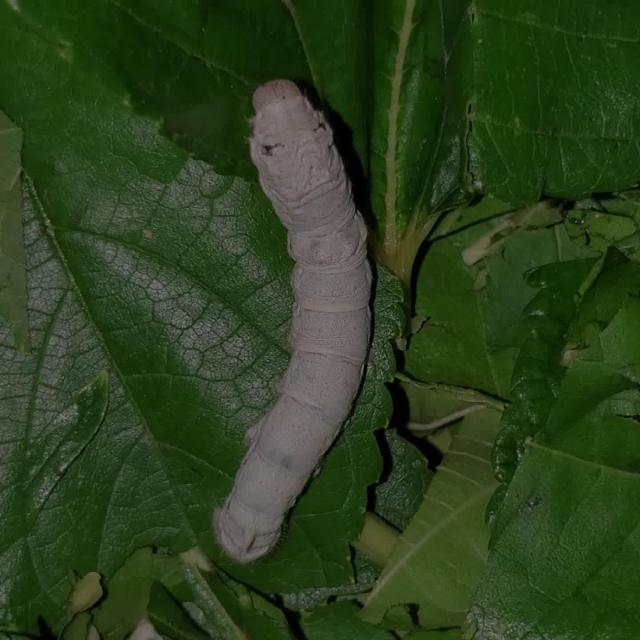Healthy: (204, 77, 384, 573)
